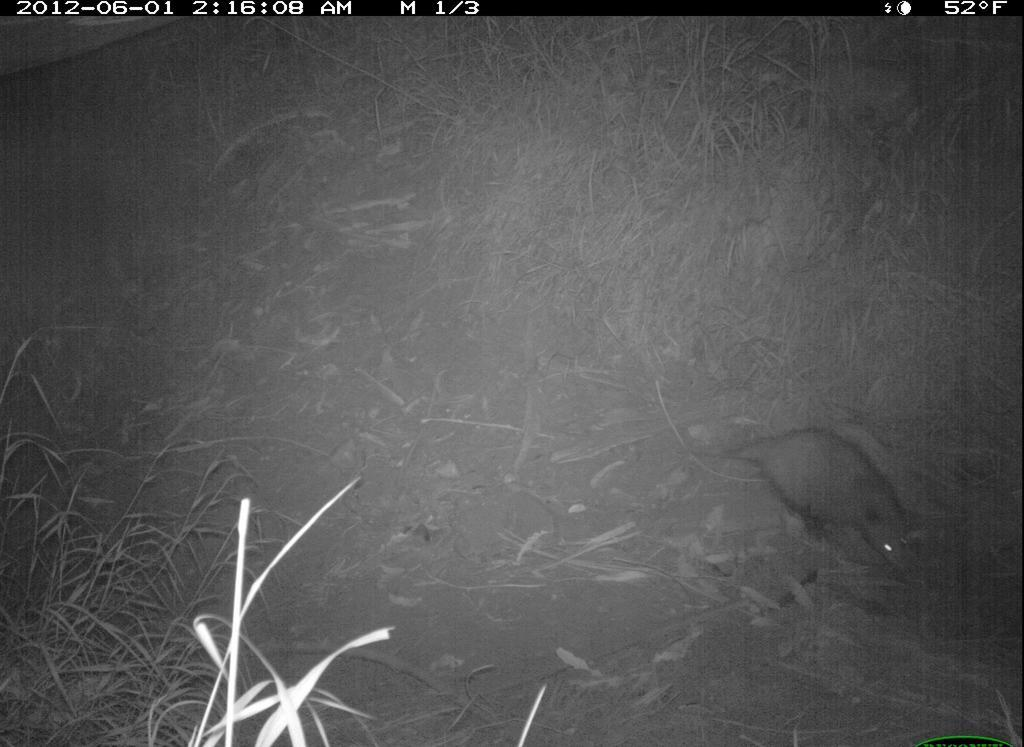opossum: (715, 427, 927, 584)
